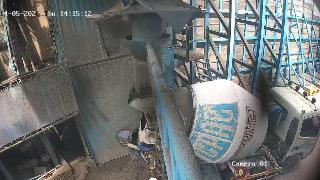cement_mixer_truck: (127, 79, 320, 180)
swing_chute: (125, 34, 169, 96)
